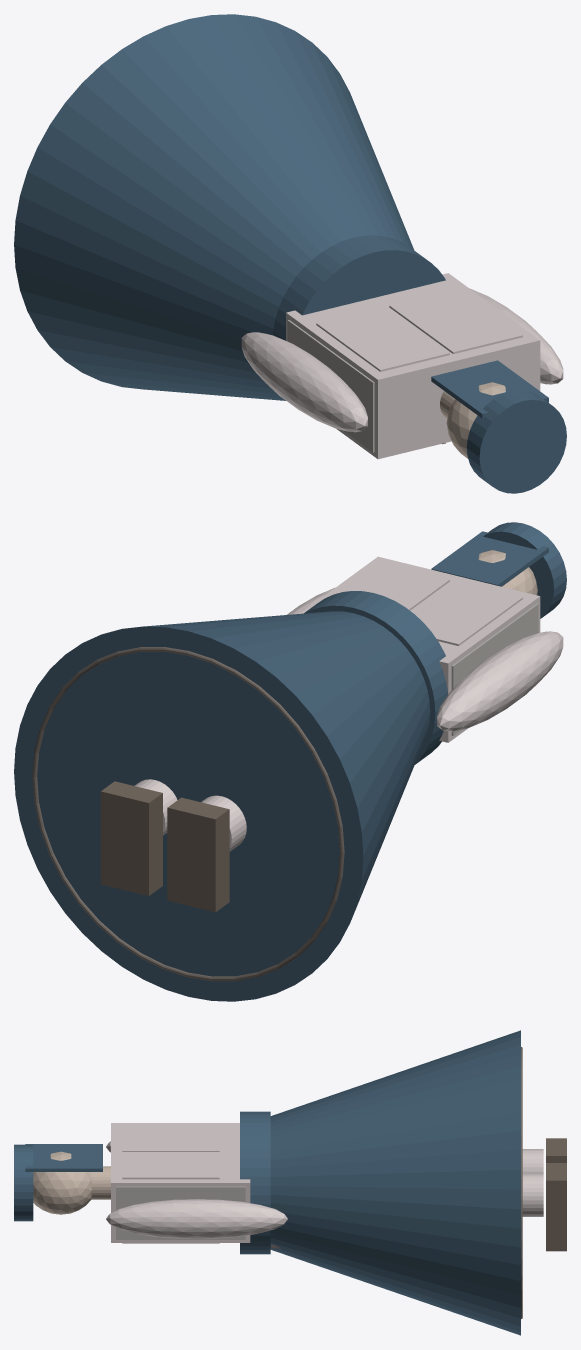
Rendered from MASTER_144_STAGE3_DETAIL.glb.
The picture shows the model from 3 angles, top to bottom: view 1: azimuth 30°, elevation 25°; view 2: azimuth 150°, elevation 25°; view 3: azimuth 270°, elevation 25°; orthographic projection. The views are drawn at different scales.
Visible parts, largest first — view 1: slot_lower_main__fund_i_gjatë, slot_upper_inner__këmishë, slot_waist__brez, slot_headwear__lidhcë, slot_upper_inner_sleeve_L, slot_upper_outer__jelek/xhamadan_R, slot_upper_outer__jelek/xhamadan_L, slot_headwear_tail__lidhcë, mannequin_torso, slot_upper_inner_sleeve_R, mannequin_head; view 2: slot_lower_main__fund_i_gjatë, slot_footwear__opinga_L, slot_footwear__opinga_R, slot_upper_inner_sleeve_L, detail_skirt_hem, slot_waist__brez, slot_upper_outer__jelek/xhamadan_L, slot_upper_inner__këmishë, slot_headwear_tail__lidhcë, slot_headwear__lidhcë, slot_upper_outer__jelek/xhamadan_R, mannequin_torso (+3 smaller); view 3: slot_lower_main__fund_i_gjatë, slot_upper_inner_sleeve_R, slot_upper_inner__këmishë, slot_waist__brez, slot_upper_outer__jelek/xhamadan_R, slot_upper_outer__jelek/xhamadan_L, mannequin_torso, mannequin_head, slot_headwear_tail__lidhcë, slot_footwear__opinga_R, slot_headwear__lidhcë, slot_legwear__çorape_R (+4 smaller).
Part boxes in pixels (x1,y1,x2,y2): slot_lower_main__fund_i_gjatë: [14, 14, 413, 400]; slot_upper_inner__këmishë: [286, 273, 540, 459]; slot_waist__brez: [273, 235, 445, 340]; slot_headwear__lidhcë: [466, 390, 566, 493]; slot_upper_inner_sleeve_L: [241, 332, 367, 432]; slot_upper_outer__jelek/xhamadan_R: [389, 288, 522, 353]; slot_upper_outer__jelek/xhamadan_L: [316, 306, 449, 371]; slot_headwear_tail__lidhcë: [431, 360, 548, 418]; mannequin_torso: [287, 320, 374, 452]; slot_upper_inner_sleeve_R: [469, 288, 563, 384]; mannequin_head: [446, 382, 505, 458]; slot_lower_main__fund_i_gjatë: [14, 611, 430, 1001]; slot_footwear__opinga_L: [167, 797, 229, 912]; slot_footwear__opinga_R: [100, 781, 162, 895]; slot_upper_inner_sleeve_L: [437, 631, 563, 731]; detail_skirt_hem: [32, 647, 344, 981]; slot_waist__brez: [304, 591, 447, 764]; slot_upper_outer__jelek/xhamadan_L: [411, 580, 522, 645]; slot_upper_inner__këmishë: [300, 556, 540, 742]; slot_headwear_tail__lidhcë: [431, 531, 548, 586]; slot_headwear__lidhcë: [483, 522, 566, 618]; slot_upper_outer__jelek/xhamadan_R: [339, 562, 449, 610]; mannequin_torso: [451, 603, 538, 735]; slot_lower_main__fund_i_gjatë: [270, 1030, 520, 1335]; slot_upper_inner_sleeve_R: [106, 1199, 287, 1238]; slot_upper_inner__këmishë: [111, 1123, 250, 1242]; slot_waist__brez: [240, 1111, 270, 1254]; slot_upper_outer__jelek/xhamadan_R: [122, 1152, 219, 1243]; slot_upper_outer__jelek/xhamadan_L: [122, 1125, 219, 1151]; mannequin_torso: [116, 1186, 245, 1239]; mannequin_head: [33, 1151, 91, 1214]; slot_headwear_tail__lidhcë: [25, 1144, 102, 1171]; slot_footwear__opinga_R: [546, 1163, 566, 1251]; slot_headwear__lidhcë: [14, 1144, 33, 1221]; slot_legwear__çorape_R: [522, 1173, 543, 1216].
Bounding box in the file's own units: 0.9435 × 0.9435 × 1.71.
